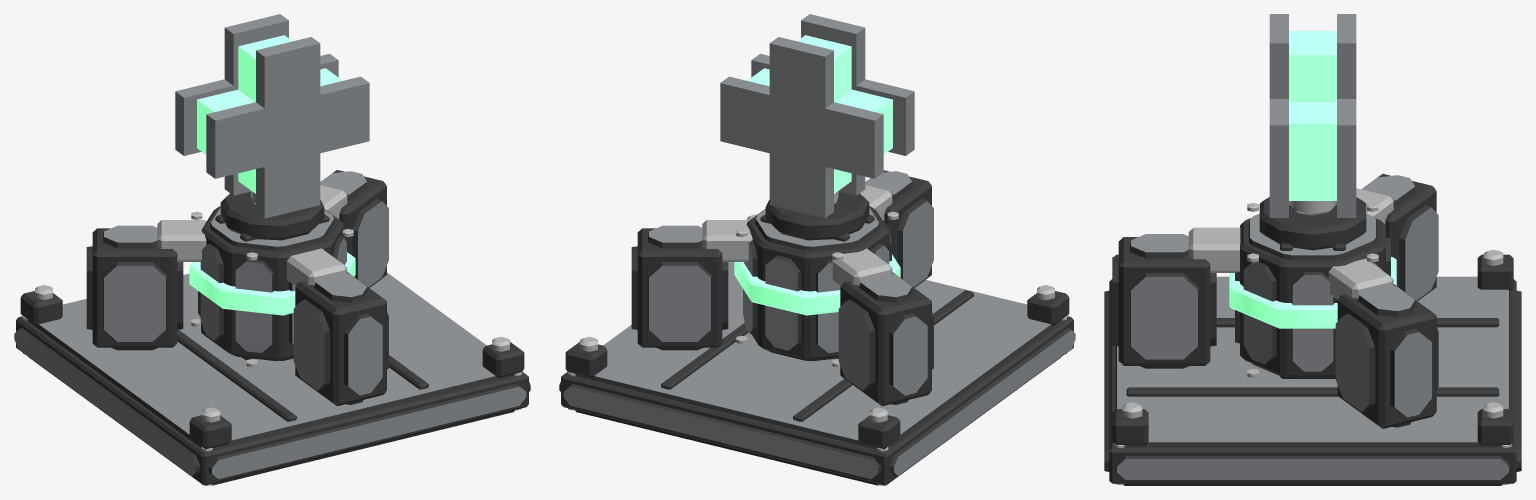
Rendered from R4X_RepairTurretDeployer.fbx.
The picture shows the model from 3 angles, left to right: view 1: azimuth 30°, elevation 25°; view 2: azimuth 150°, elevation 25°; view 3: azimuth 270°, elevation 25°; orthographic projection. The views are drawn at different scales.
Parts seen in each view (by area): view 1: R4X_RepairTurretDeployer_Body, R4X_RepairTurretDeployer_Pod; view 2: R4X_RepairTurretDeployer_Body, R4X_RepairTurretDeployer_Pod; view 3: R4X_RepairTurretDeployer_Body, R4X_RepairTurretDeployer_Pod.
Boxes of the visible parts, x1=… form: R4X_RepairTurretDeployer_Body: x1=14, y1=170, x2=530, y2=485; R4X_RepairTurretDeployer_Pod: x1=175, y1=14, x2=369, y2=367; R4X_RepairTurretDeployer_Body: x1=559, y1=170, x2=1075, y2=485; R4X_RepairTurretDeployer_Pod: x1=720, y1=14, x2=914, y2=367; R4X_RepairTurretDeployer_Body: x1=1104, y1=174, x2=1521, y2=485; R4X_RepairTurretDeployer_Pod: x1=1229, y1=14, x2=1396, y2=378.
Size of the model in its own units: 0.52 by 0.515 by 0.52.
